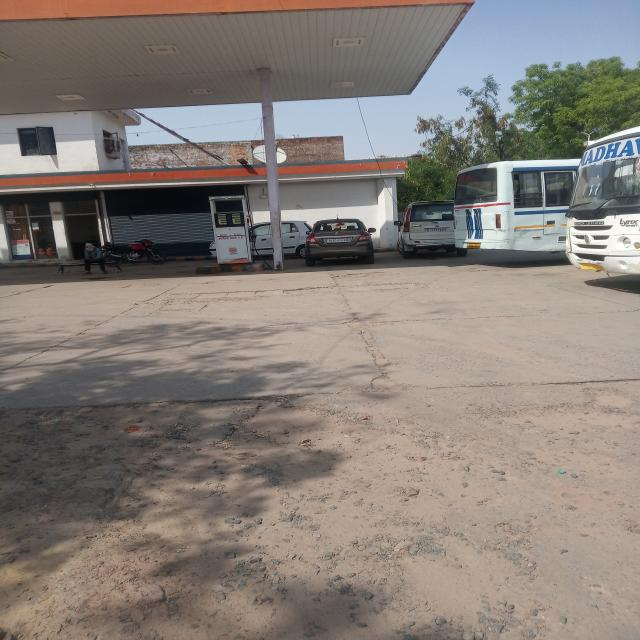Bus: (454, 126, 640, 274)
Car: (394, 200, 457, 259), (305, 219, 375, 266), (280, 221, 310, 256), (252, 222, 272, 256), (209, 241, 215, 255)
Two Wheeler: (102, 239, 167, 264)
